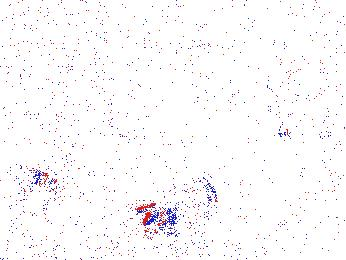flame jellyfish: (135, 174, 218, 229), (262, 65, 309, 139), (1, 164, 51, 215)
